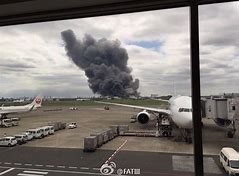smoke: (59, 28, 144, 97)
